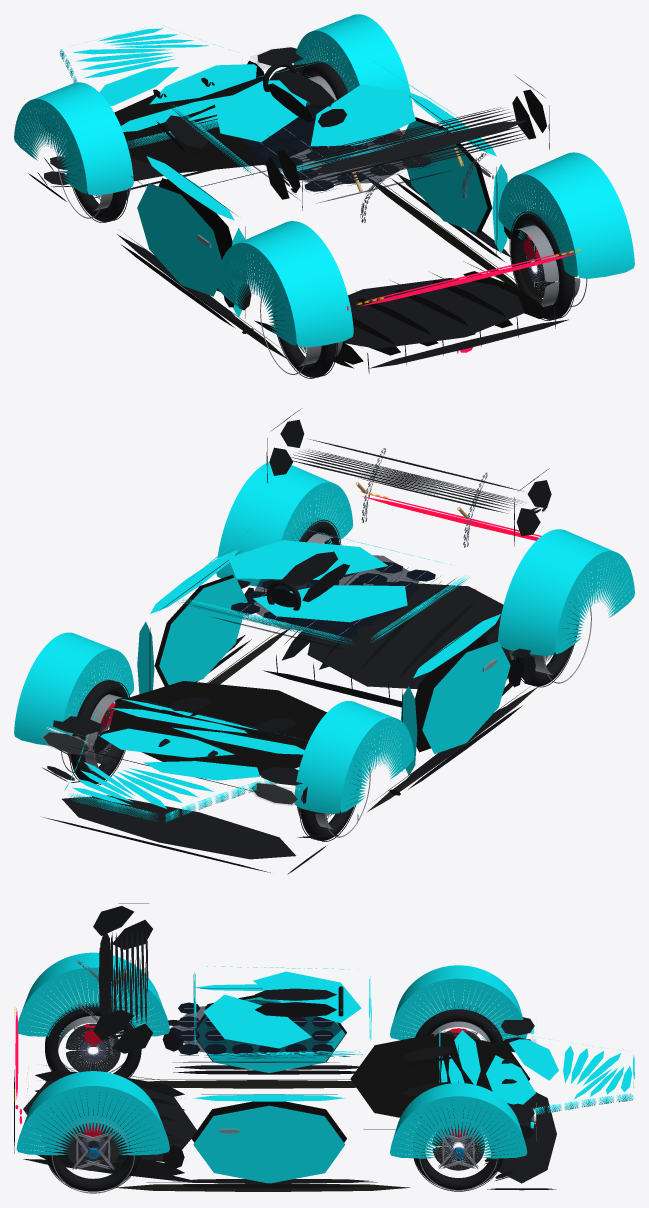
The model's file is vehicle_hypercar_apex_gt3.glb.
3 renders of one model, top to bottom at view 1: azimuth 30°, elevation 25°; view 2: azimuth 150°, elevation 25°; view 3: azimuth 270°, elevation 25°, orthographic. The views are drawn at different scales.
Visible parts, largest first — view 1: ClassA_Bonnet_Assembly, Active_MultiElement_RearWing_Group, Door_Assembly_Left, Photovoltaic_SolarRoof_Subassembly, Tire_Cup2R_Assembly.003, Underbody_Venturi_GroundEffect_System, Tire_Cup2R_Assembly.002, Rear_3DOled_LightBlade_Assembly, Tire_Cup2R_Assembly, Headlight_Cluster_Left, CSiC_Brake_Assembly.003, Tire_Cup2R_Assembly.001; view 2: ClassA_Bonnet_Assembly, Active_MultiElement_RearWing_Group, Door_Assembly_Left, Photovoltaic_SolarRoof_Subassembly, Headlight_Cluster_Left, Tire_Cup2R_Assembly.001, Tire_Cup2R_Assembly.002, Tire_Cup2R_Assembly, Underbody_Venturi_GroundEffect_System, Rear_3DOled_LightBlade_Assembly, Tire_Cup2R_Assembly.003, Forged_Rim_Assembly.001; view 3: ClassA_Bonnet_Assembly, Active_MultiElement_RearWing_Group, Door_Assembly_Left, Photovoltaic_SolarRoof_Subassembly, Underbody_Venturi_GroundEffect_System, Tire_Cup2R_Assembly.003, Tire_Cup2R_Assembly.002, CSiC_Brake_Assembly.002, CSiC_Brake_Assembly.003, Tire_Cup2R_Assembly, Tire_Cup2R_Assembly.001, CSiC_Brake_Assembly.001 (+2 smaller).
Part boxes in pixels (bbox=[...]): ClassA_Bonnet_Assembly: bbox=[14, 14, 634, 347]; Active_MultiElement_RearWing_Group: bbox=[28, 75, 568, 373]; Door_Assembly_Left: bbox=[114, 78, 497, 318]; Photovoltaic_SolarRoof_Subassembly: bbox=[215, 100, 448, 203]; Tire_Cup2R_Assembly.003: bbox=[509, 209, 587, 320]; Underbody_Venturi_GroundEffect_System: bbox=[117, 178, 519, 370]; Tire_Cup2R_Assembly.002: bbox=[260, 284, 342, 378]; Rear_3DOled_LightBlade_Assembly: bbox=[347, 249, 581, 353]; Tire_Cup2R_Assembly: bbox=[57, 143, 130, 222]; Headlight_Cluster_Left: bbox=[40, 44, 306, 133]; CSiC_Brake_Assembly.003: bbox=[518, 236, 554, 297]; Tire_Cup2R_Assembly.001: bbox=[299, 61, 348, 163]; ClassA_Bonnet_Assembly: bbox=[14, 462, 634, 822]; Active_MultiElement_RearWing_Group: bbox=[42, 408, 551, 874]; Door_Assembly_Left: bbox=[69, 552, 497, 795]; Photovoltaic_SolarRoof_Subassembly: bbox=[213, 555, 454, 649]; Headlight_Cluster_Left: bbox=[41, 716, 307, 805]; Tire_Cup2R_Assembly.001: bbox=[69, 679, 129, 785]; Tire_Cup2R_Assembly.002: bbox=[509, 594, 591, 687]; Tire_Cup2R_Assembly: bbox=[297, 766, 370, 841]; Underbody_Venturi_GroundEffect_System: bbox=[207, 628, 537, 820]; Rear_3DOled_LightBlade_Assembly: bbox=[361, 491, 541, 590]; Tire_Cup2R_Assembly.003: bbox=[264, 517, 341, 628]; Forged_Rim_Assembly.001: bbox=[61, 694, 122, 772]; ClassA_Bonnet_Assembly: bbox=[16, 952, 634, 1188]; Active_MultiElement_RearWing_Group: bbox=[14, 903, 556, 1190]; Door_Assembly_Left: bbox=[191, 988, 529, 1142]; Photovoltaic_SolarRoof_Subassembly: bbox=[170, 999, 341, 1062]; Underbody_Venturi_GroundEffect_System: bbox=[116, 1079, 410, 1191]; Tire_Cup2R_Assembly.003: bbox=[45, 1102, 140, 1193]; Tire_Cup2R_Assembly.002: bbox=[45, 1001, 141, 1077]; CSiC_Brake_Assembly.002: bbox=[65, 1023, 120, 1072]; CSiC_Brake_Assembly.003: bbox=[65, 1122, 120, 1170]; Tire_Cup2R_Assembly: bbox=[415, 1008, 503, 1043]; Tire_Cup2R_Assembly.001: bbox=[413, 1107, 503, 1191]; CSiC_Brake_Assembly.001: bbox=[432, 1125, 484, 1170].
Bounding box in the file's own units: 2.5 × 1.57 × 4.67.
